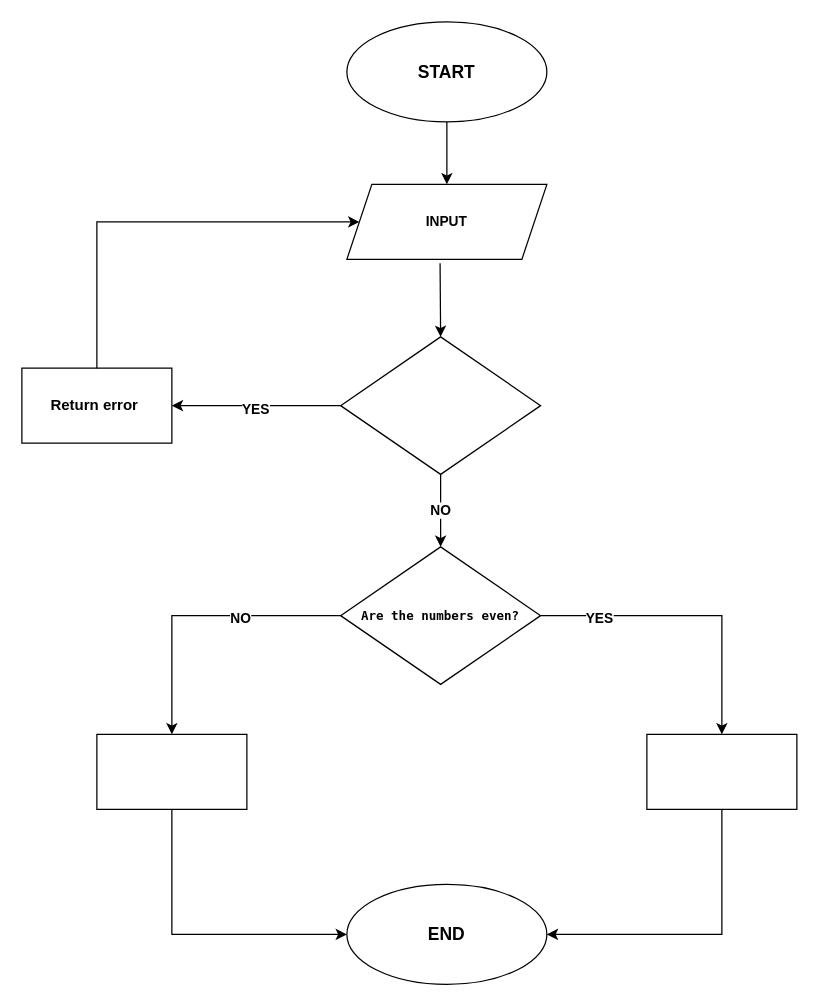
Some shapes in this 819 by 1006 pixel diagram are drawn without their labels. The centre of each missing label's shape, as x and y in pixels:
Is it an array, empty or contains non-numeric: (440,405)
RETURN FALSE: (171,771)
RETURN TRUE: (721,771)
